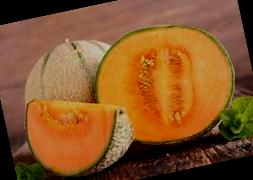Melon Ripe: (85, 12, 247, 158), (19, 80, 139, 180)
